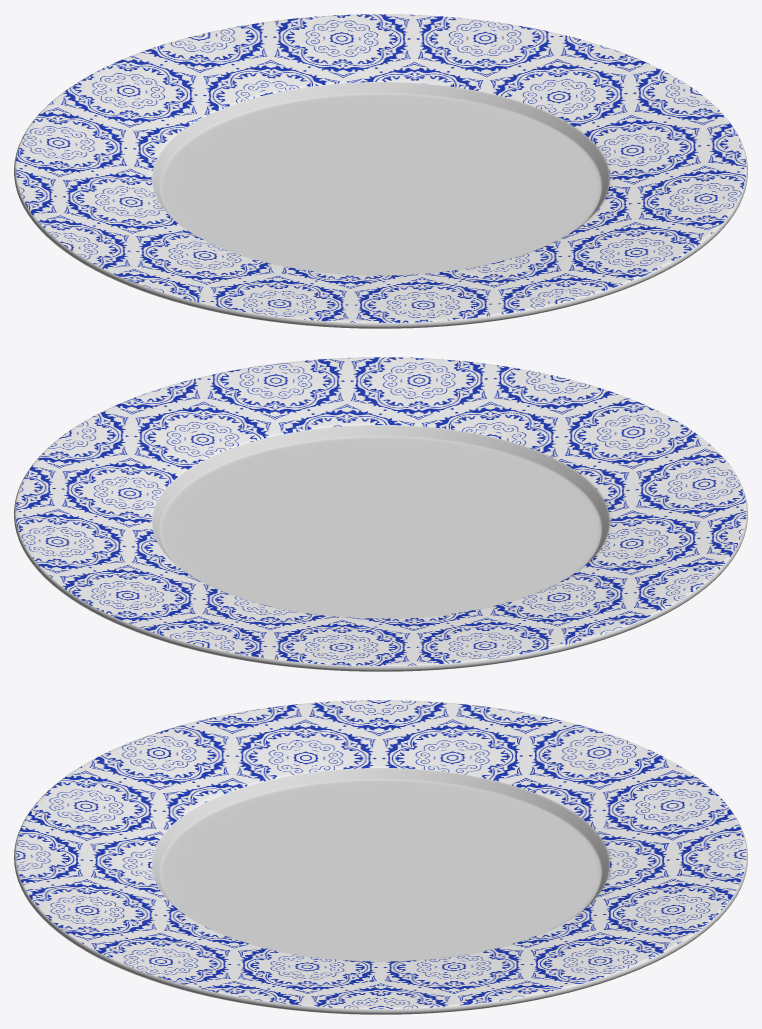
Rendered from OPT_PLATE_WIP_08_K.gltf.
3 views of the same model, one above another, from view 1: azimuth 30°, elevation 25°; view 2: azimuth 150°, elevation 25°; view 3: azimuth 270°, elevation 25° (orthographic).
Visible parts, largest first — view 1: Cylinder.001; view 2: Cylinder.001; view 3: Cylinder.001.
Boxes of the visible parts, x1,y1,x2,y2 form: Cylinder.001: (14,14,747,328); Cylinder.001: (14,357,747,671); Cylinder.001: (14,700,747,1014).
Size of the model in its own units: 0.2592 by 0.0228 by 0.2592.
2 materials, 1 textured.
